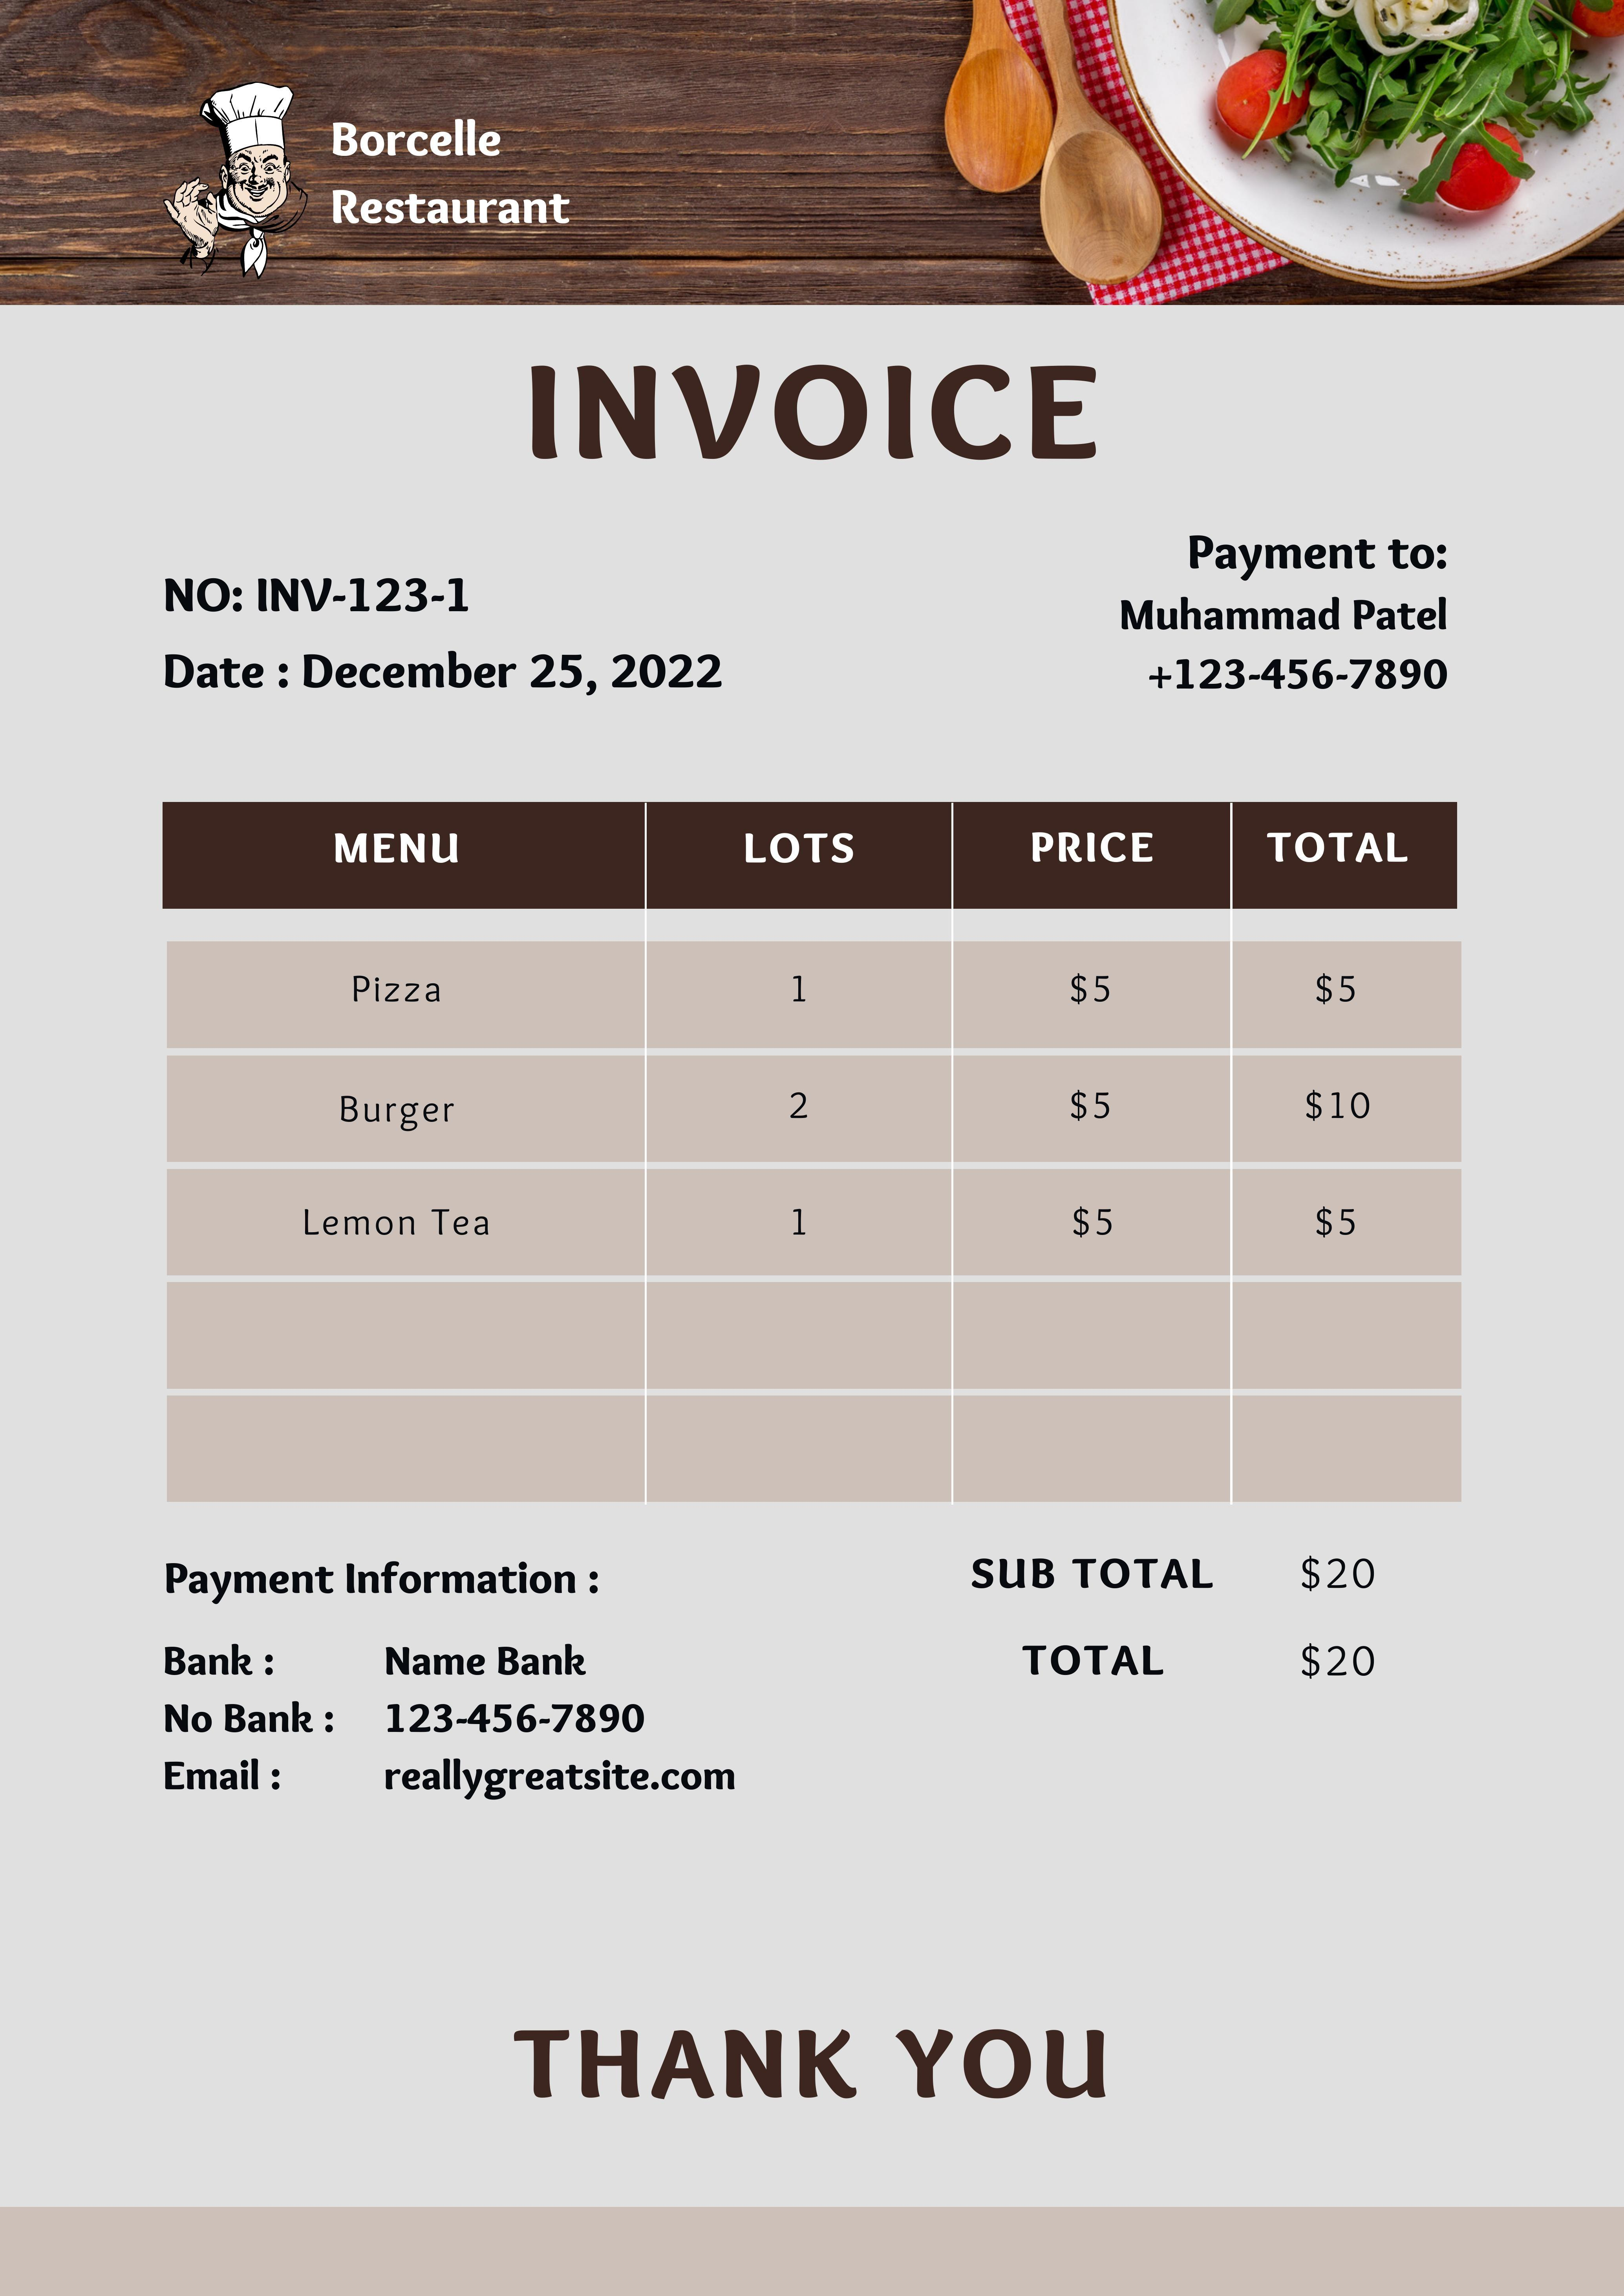ROI: (157, 805, 1448, 1261), (137, 1547, 773, 1830), (126, 546, 815, 736), (959, 1536, 1423, 1706), (322, 79, 602, 254)
